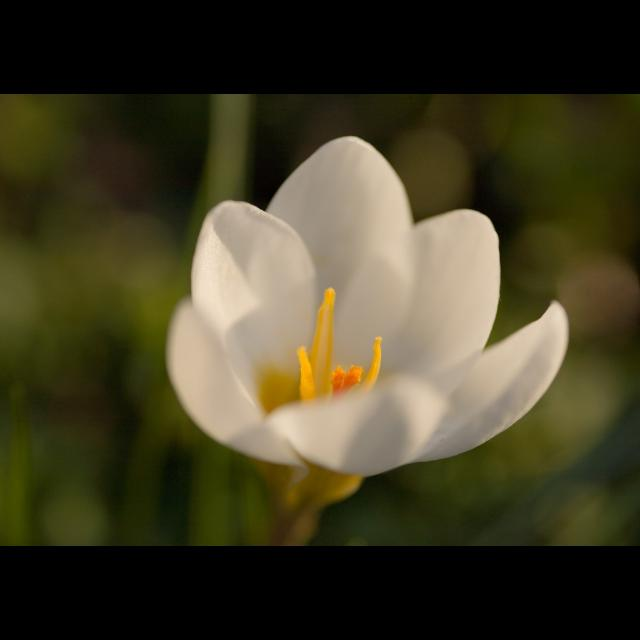Flower: (159, 132, 566, 520)
